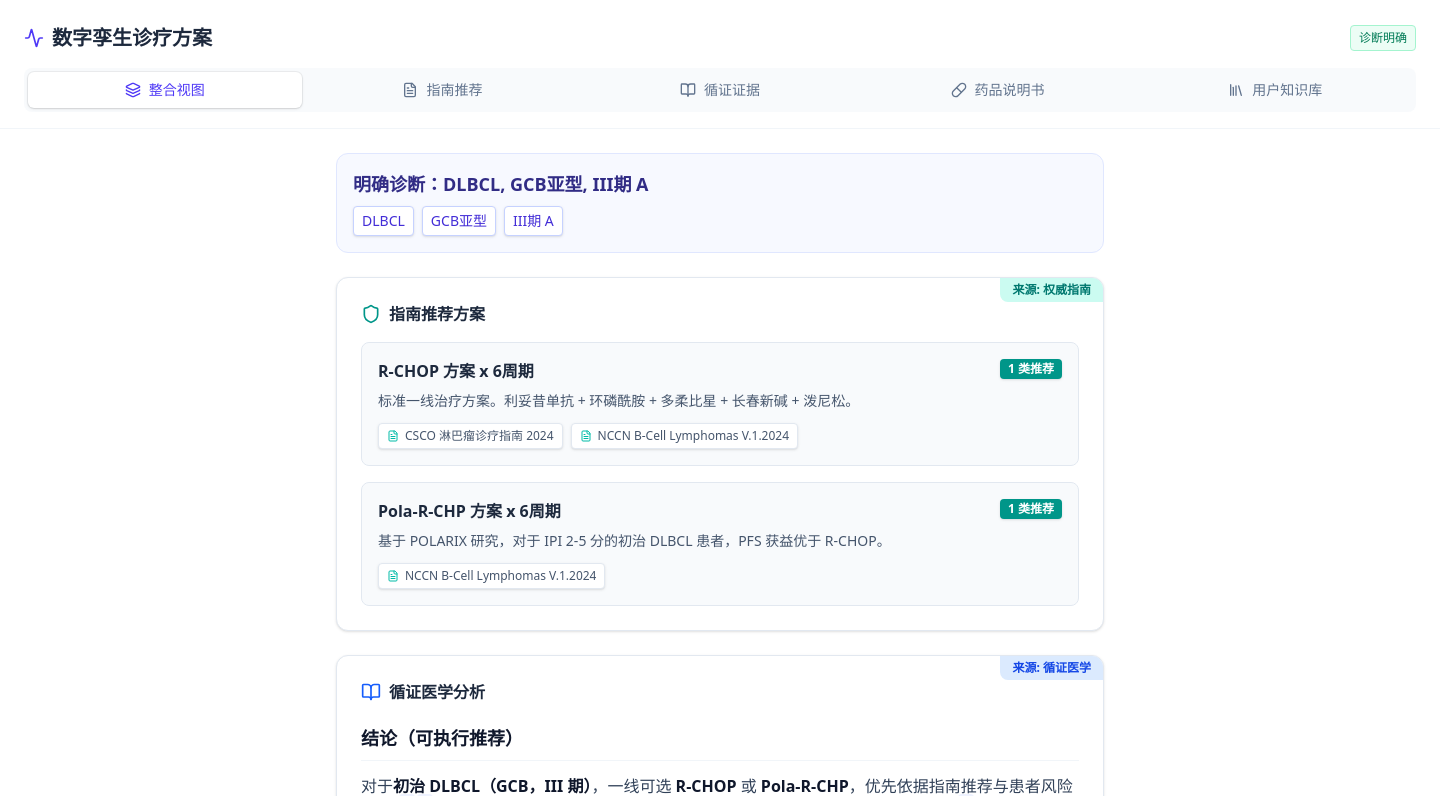
it: CenterPanel › guidelines tab shows reference guidelines and recommendations
The image size is (1440, 796).
Click the button "指南推荐" at (442, 90), box [306, 72, 579, 108]
(page scrolled)
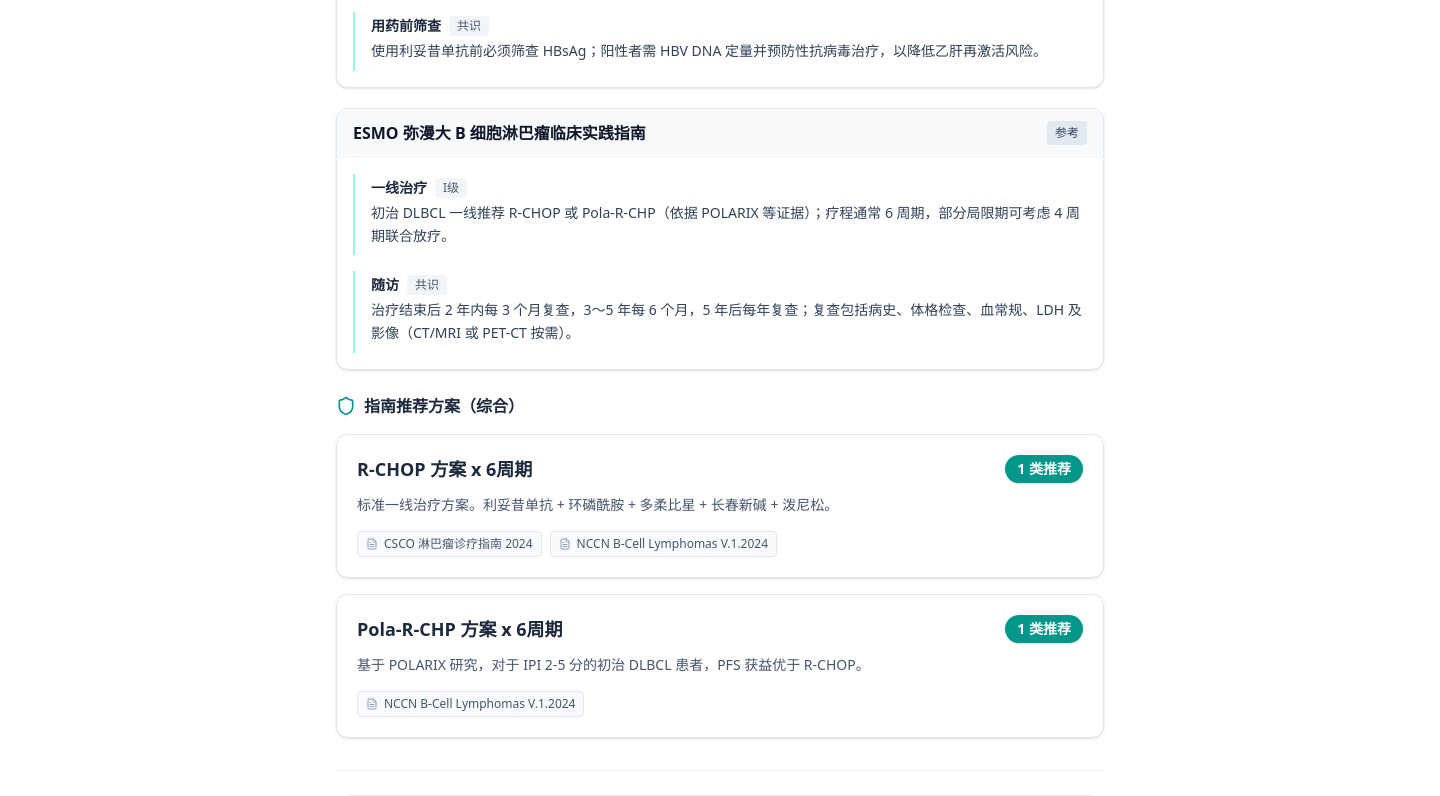
Now the heading "指南推荐方案（综合）" is shown, box [336, 395, 524, 417]
